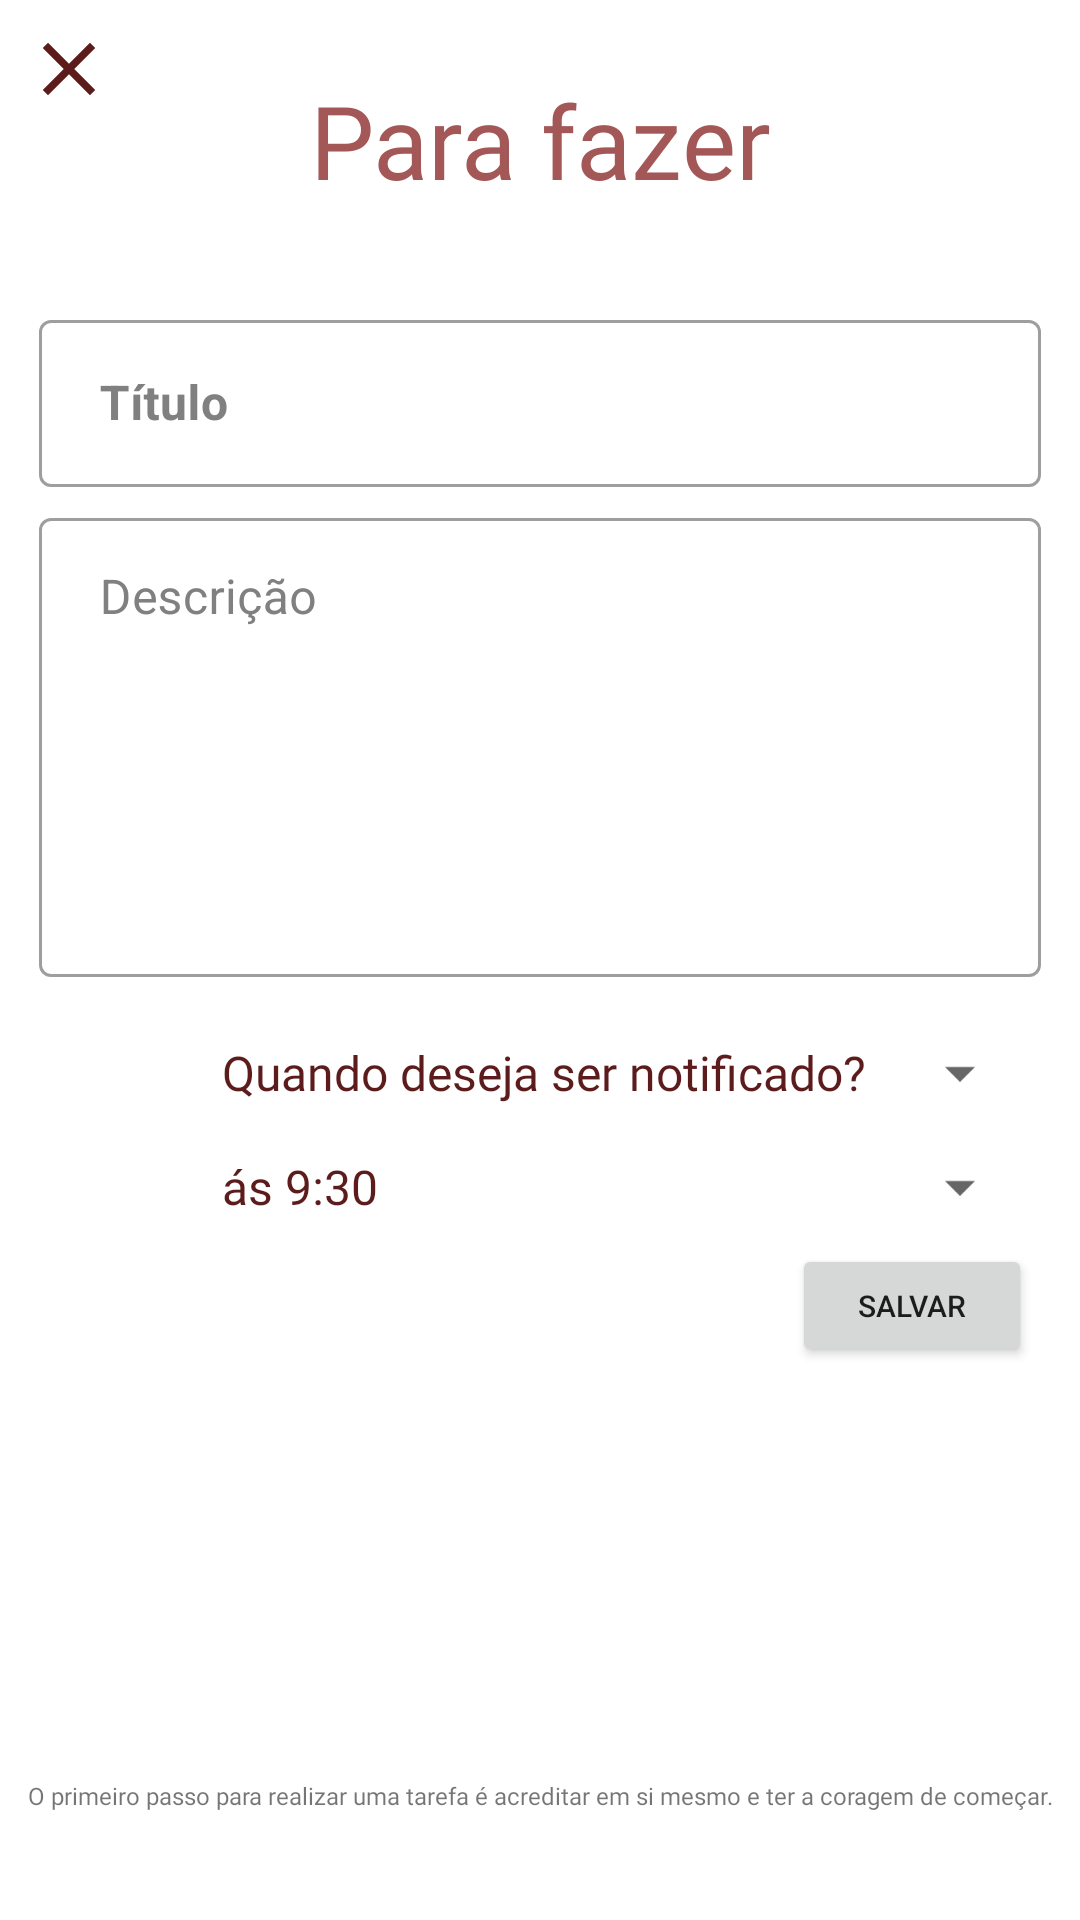

Where icons sit on this 1080 x 1920 app screen, as detection(x1, y1, x2, y2):
close: detection(43, 43, 95, 95)
